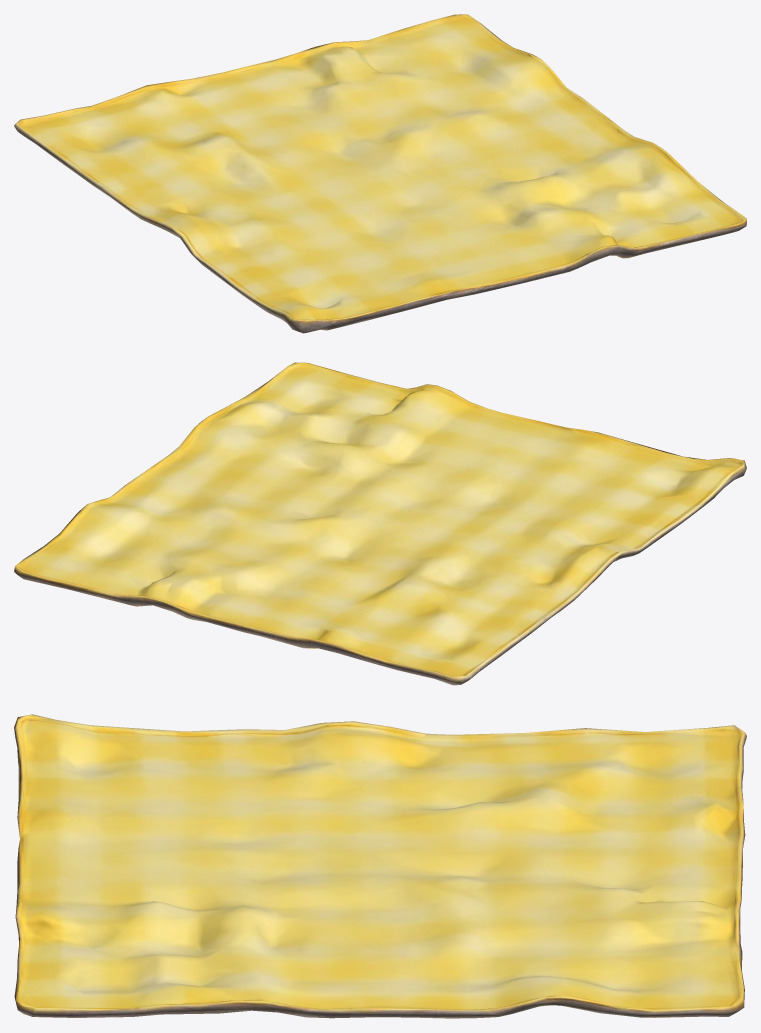
The model's file is 野餐垫.glb.
3 renders of one model, top to bottom at view 1: azimuth 30°, elevation 25°; view 2: azimuth 150°, elevation 25°; view 3: azimuth 270°, elevation 25°, orthographic. The views are drawn at different scales.
Visible parts, largest first — view 1: tripo_node_55b4e8f2-6428-4baf-b635-554578f52cc9; view 2: tripo_node_55b4e8f2-6428-4baf-b635-554578f52cc9; view 3: tripo_node_55b4e8f2-6428-4baf-b635-554578f52cc9.
Boxes of the visible parts, x1,y1,x2,y2 form: tripo_node_55b4e8f2-6428-4baf-b635-554578f52cc9: [14, 14, 746, 333]; tripo_node_55b4e8f2-6428-4baf-b635-554578f52cc9: [14, 362, 746, 685]; tripo_node_55b4e8f2-6428-4baf-b635-554578f52cc9: [14, 714, 746, 1018].
Bounding box in the file's own units: 0.918 × 0.0525 × 1.
Materials: 1 (1 with a texture image).
